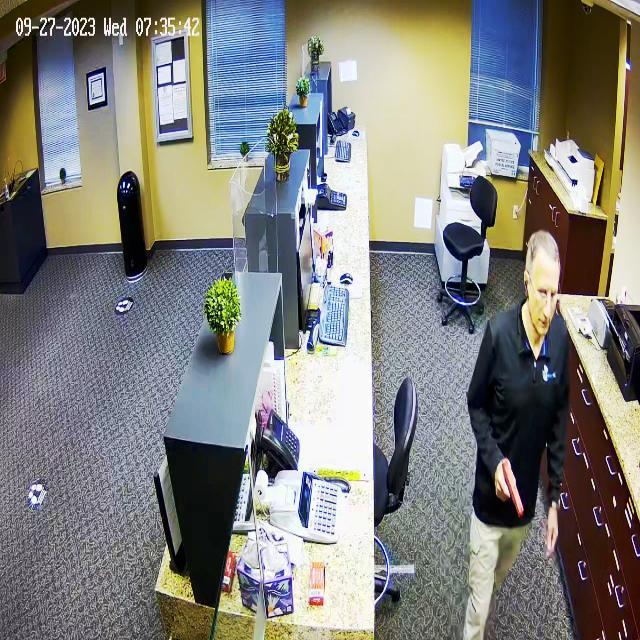Gun: (489, 454, 529, 524)
